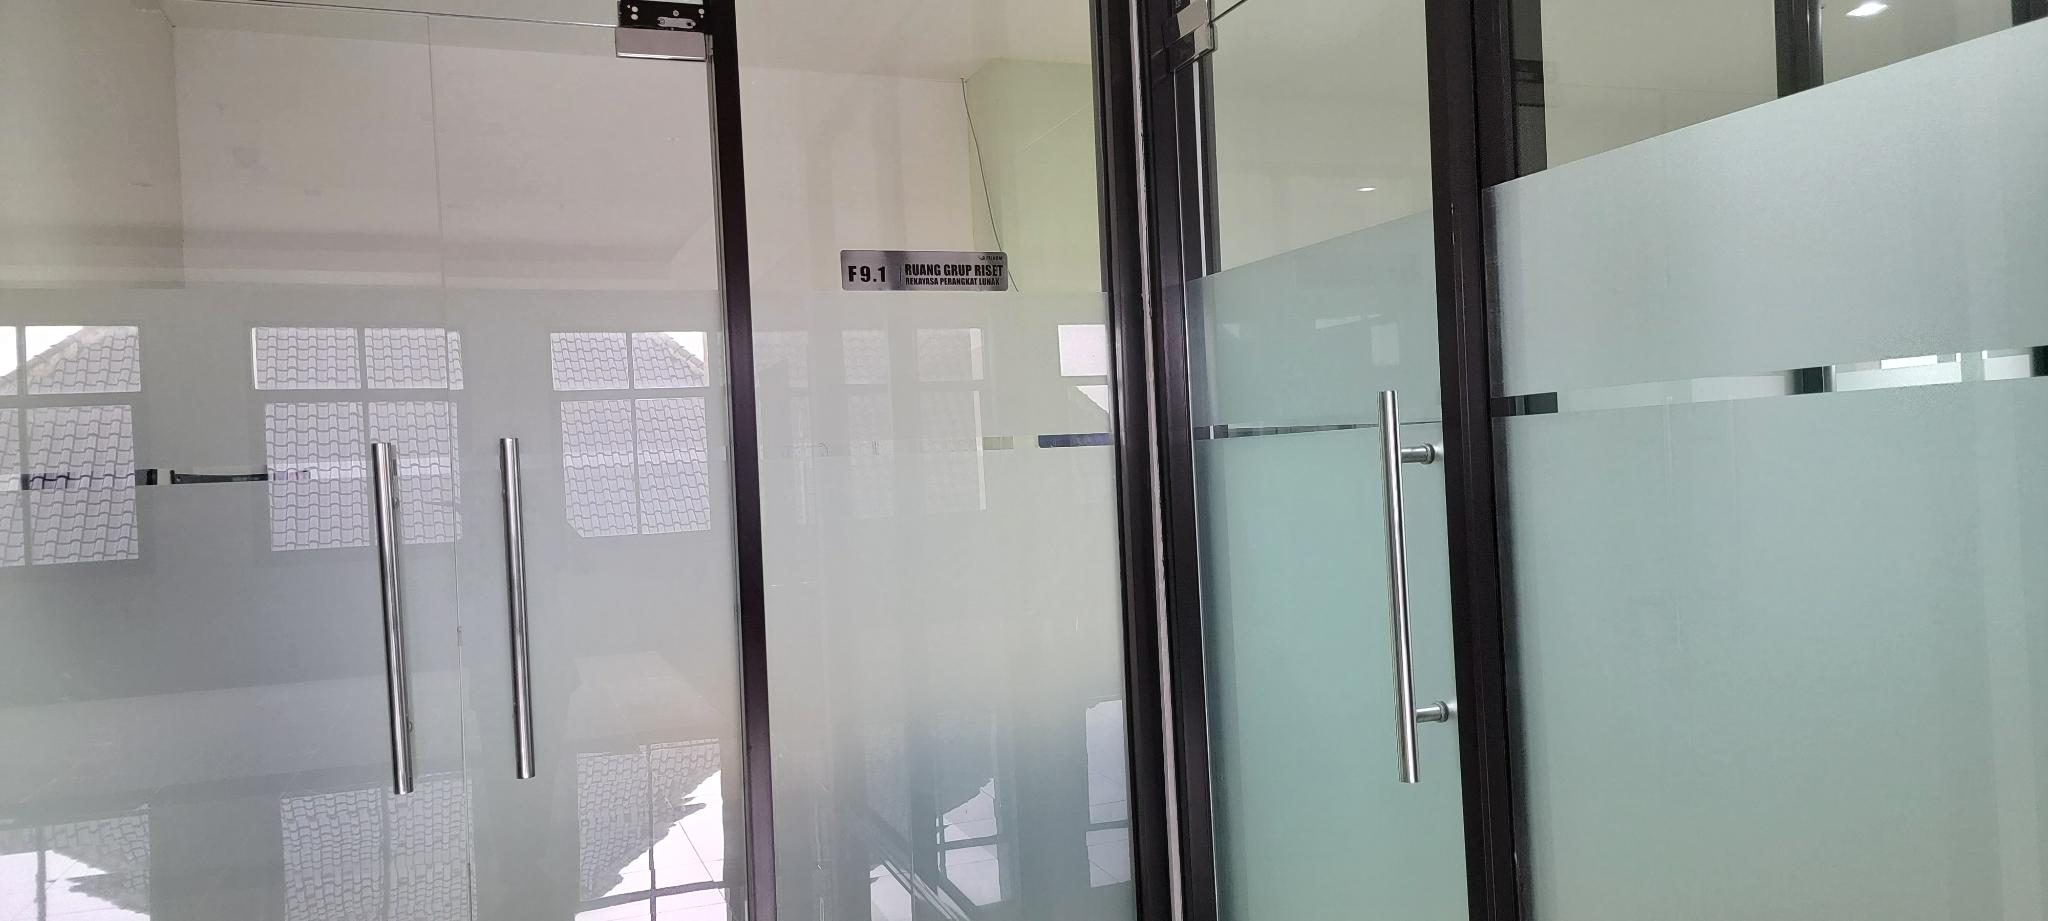plate: (840, 250, 1007, 291)
